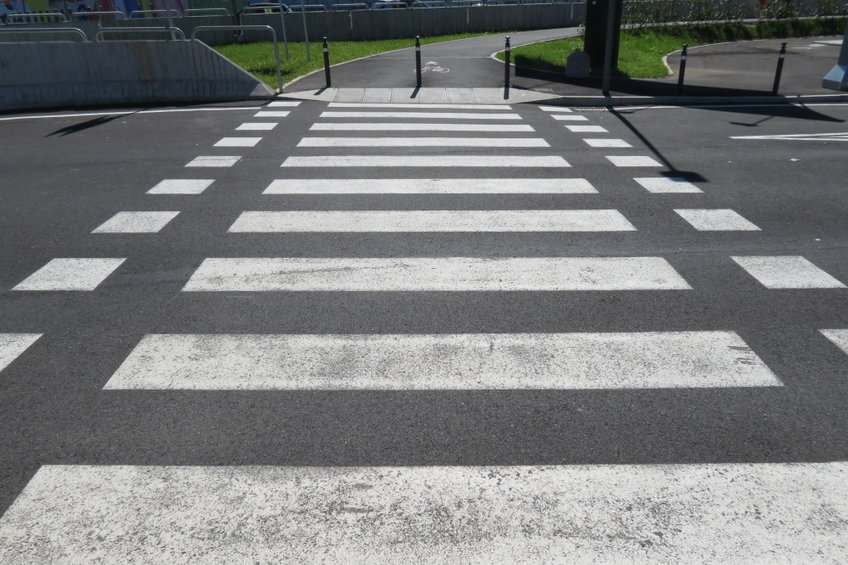bollard: (316, 34, 339, 90), (676, 40, 695, 85), (504, 33, 516, 100), (411, 34, 424, 87), (775, 39, 784, 98)
zebracross: (158, 99, 708, 563)
